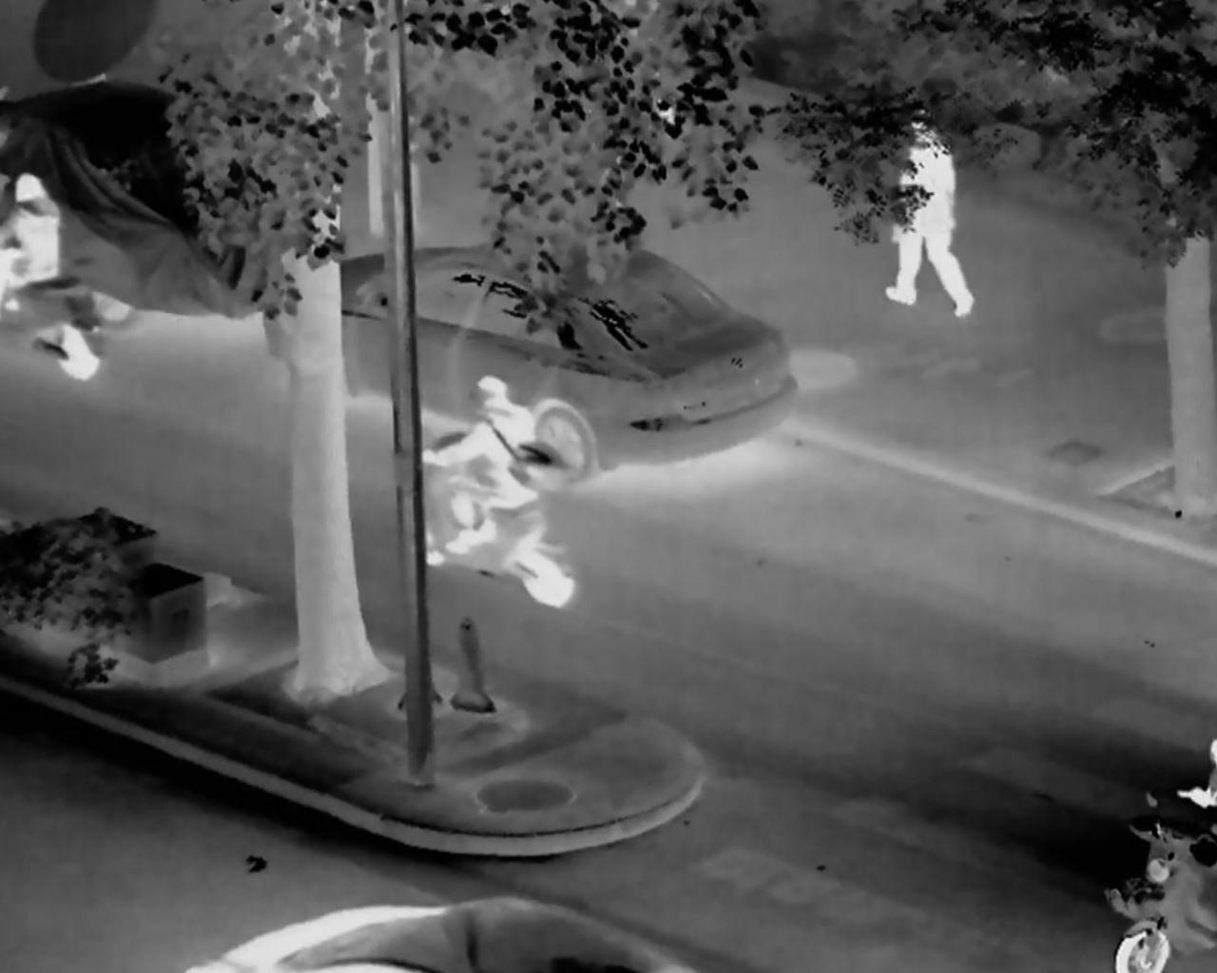person: (418, 376, 535, 556), (883, 110, 974, 315), (2, 171, 61, 307)
